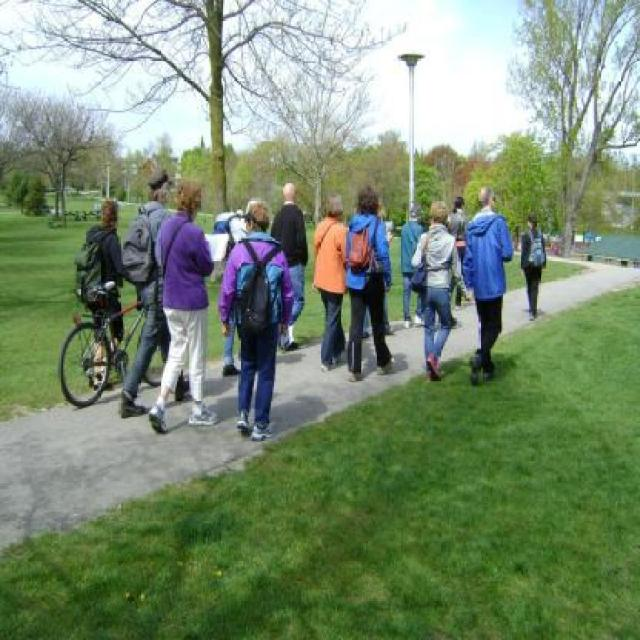backpack: (237, 258, 277, 336), (120, 208, 158, 288), (72, 237, 103, 303), (348, 226, 374, 274), (408, 254, 428, 294), (526, 229, 546, 269), (372, 257, 386, 277)
